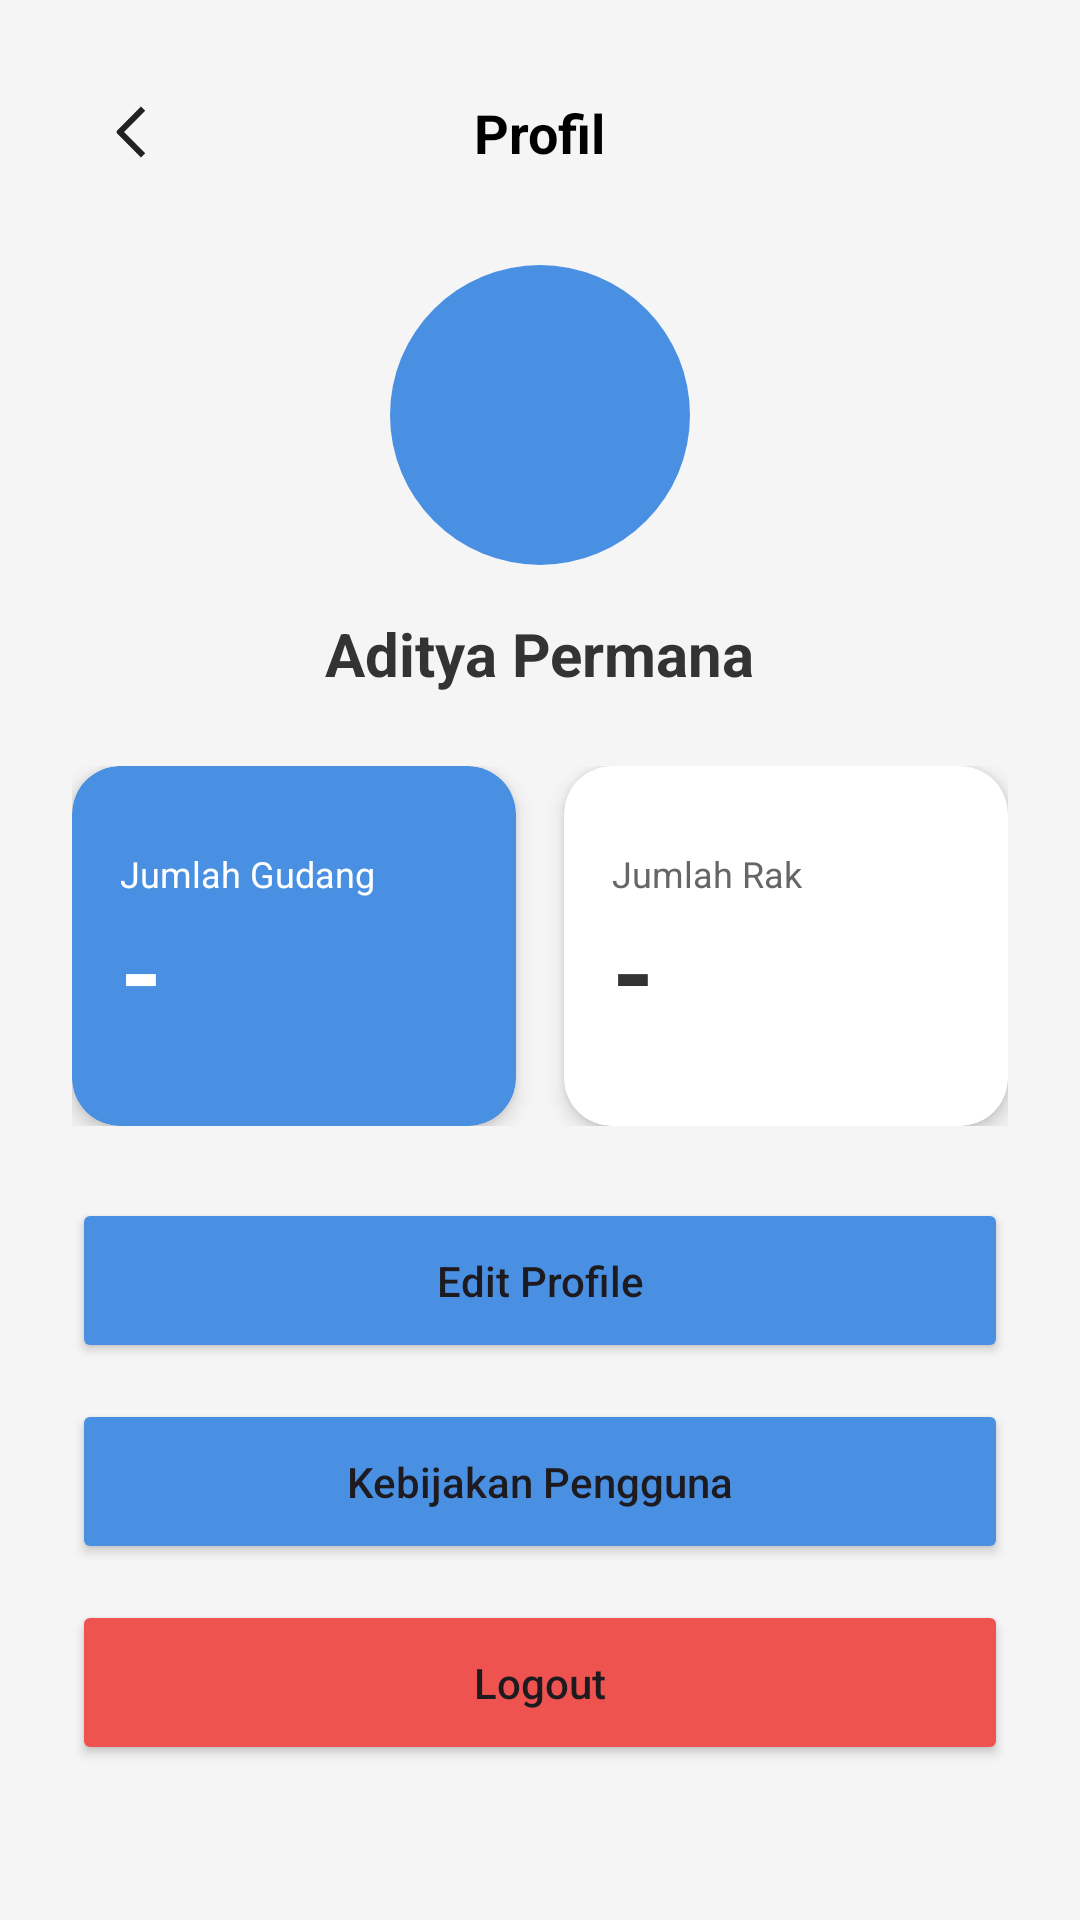

Icon bounding boxes for this 1080w x 1920h phone screenshot, format (x1, y1, x2, y2):
back: (116, 106, 145, 158)
